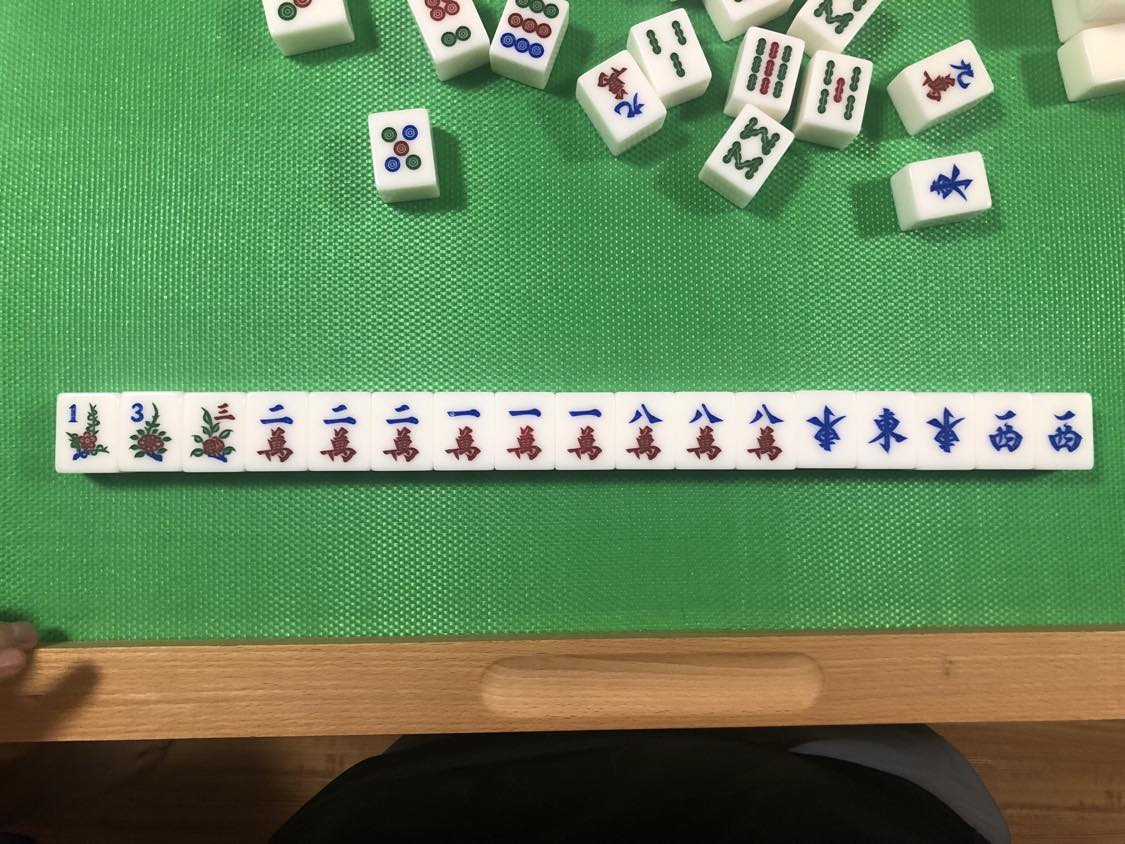character-eight: (614, 394, 673, 469), (675, 393, 734, 467), (736, 396, 793, 470)
character-one: (494, 395, 553, 471), (434, 394, 492, 470), (557, 396, 612, 470)
character-two: (245, 396, 307, 469), (371, 395, 431, 470), (310, 395, 369, 470)
flower-blue_one: (59, 393, 112, 470)
flower-blue_three: (116, 395, 177, 470)
flower-red_three: (181, 398, 242, 469)
honor-east_wind: (914, 397, 973, 470), (796, 396, 852, 467), (856, 396, 911, 467)
honor-west_wind: (1033, 395, 1091, 469), (976, 395, 1030, 470)
